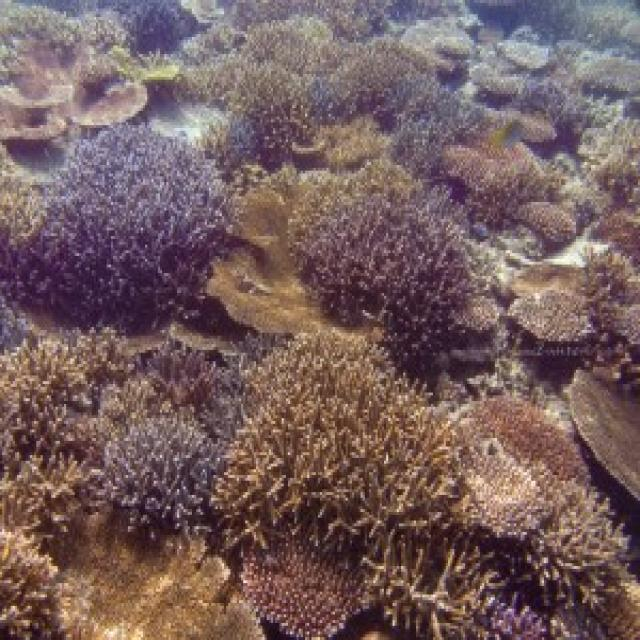Healthy: (212, 334, 637, 638), (3, 126, 234, 334), (202, 21, 483, 175), (1, 334, 131, 638), (300, 197, 479, 365), (99, 345, 240, 539), (208, 166, 370, 334), (56, 513, 263, 638), (438, 146, 575, 240), (472, 399, 588, 482), (566, 374, 639, 499), (581, 248, 639, 394), (509, 291, 590, 342), (511, 260, 581, 294), (515, 206, 575, 243)
